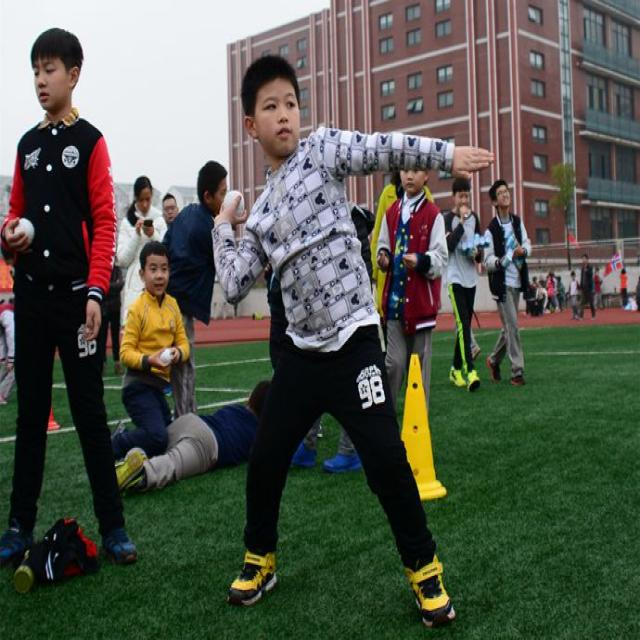10-: (0, 21, 639, 638)
down: (97, 369, 276, 505)
